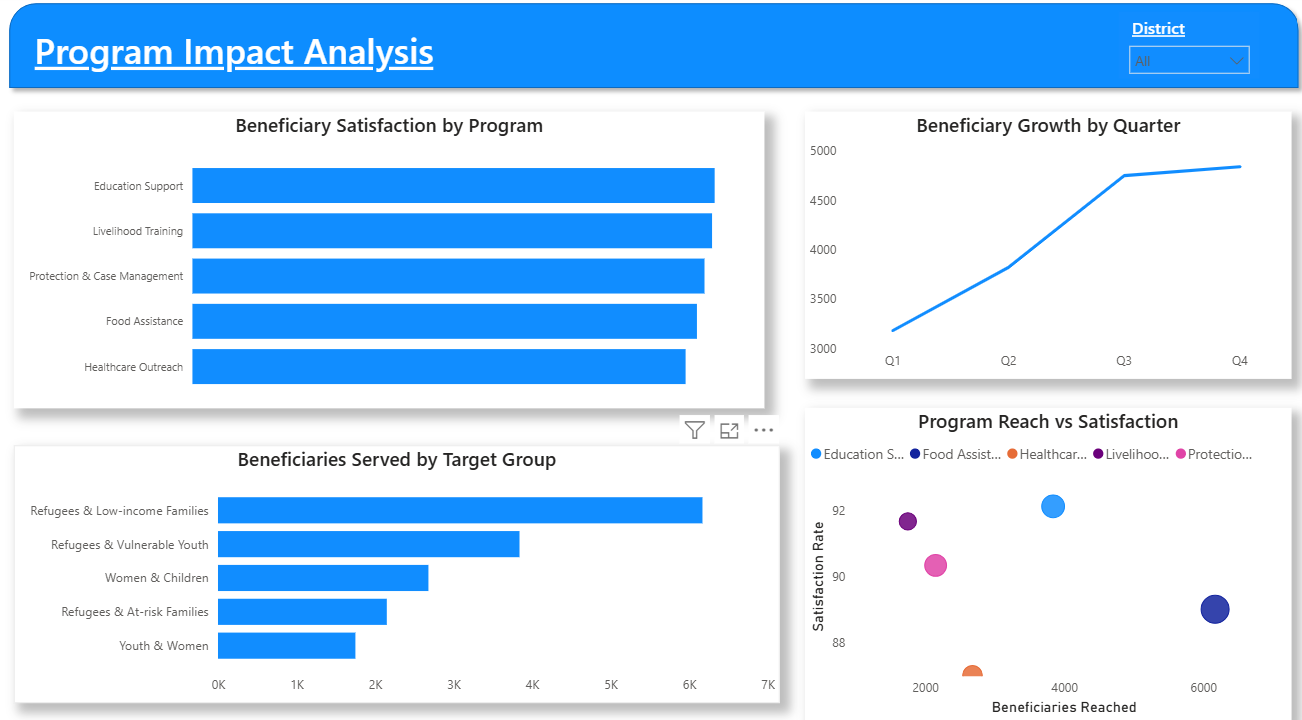

The page's visual inventory and layout, read from the dashboard file:
{"tool":"powerbi","page":{"name":"Page 2","canvas":[1280,720],"ordinal":1},"visuals":[{"type":"shape","box":[0,0,1280.3,100.9],"z":0},{"type":"clusteredBarChart","title":"Beneficiary Satisfaction by Program","fields":{"Category":["public program_impact.program"],"Y":["Avg(public program_impact.satisfaction_rate_pct)"]},"box":[13.8,114.4,734.5,290.8],"z":1},{"type":"lineChart","title":"Beneficiary Growth by Quarter","fields":{"Category":["public program_impact.quarter"],"Y":["Sum(public program_impact.beneficiaries_reached)"]},"box":[788.1,114.5,475.8,261.8],"z":3},{"type":"clusteredBarChart","title":"Beneficiaries Served by Target Group","fields":{"Category":["public program_impact.target_group"],"Y":["Sum(public program_impact.beneficiaries_reached)"]},"box":[13.8,441,749.7,252.2],"z":4},{"type":"scatterChart","title":"Program Reach vs Satisfaction","fields":{"Y":["Avg(public program_impact.satisfaction_rate_pct)"],"X":["public program_impact.beneficiaries_reached"],"Series":["public program_impact.program"],"Size":["Sum(public program_impact.cases_resolved)"]},"box":[788.1,404.9,475.8,305.4],"z":5},{"type":"slicer","fields":{"Values":["public program_impact.district"]},"box":[1094.8,17.7,137.7,65.4],"z":6}]}

Visuals, with their boxes in screenshot pixels (x1, y1, x2, y2), scaled from the page's 1280x720 canvas onto the 1302x720 screenshot:
shape: BBox(0, 0, 1301, 101)
"Beneficiary Satisfaction by Program" clusteredBarChart: BBox(14, 114, 761, 405)
"Beneficiary Growth by Quarter" lineChart: BBox(802, 114, 1286, 376)
"Beneficiaries Served by Target Group" clusteredBarChart: BBox(14, 441, 777, 693)
"Program Reach vs Satisfaction" scatterChart: BBox(802, 405, 1286, 710)
slicer - public program_impact.district: BBox(1114, 18, 1254, 83)
